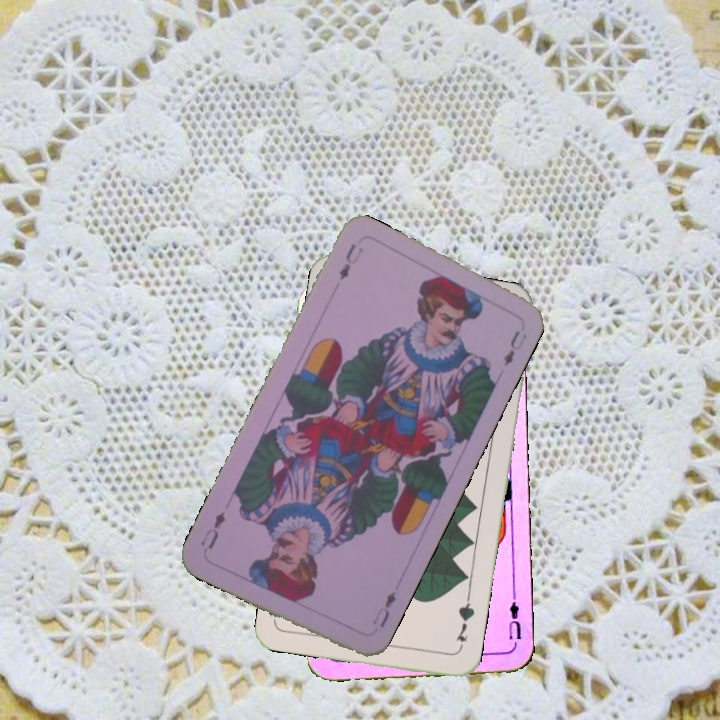EU: (334, 239, 366, 283), (368, 587, 399, 631), (504, 591, 523, 650)
G7: (452, 594, 478, 644)
